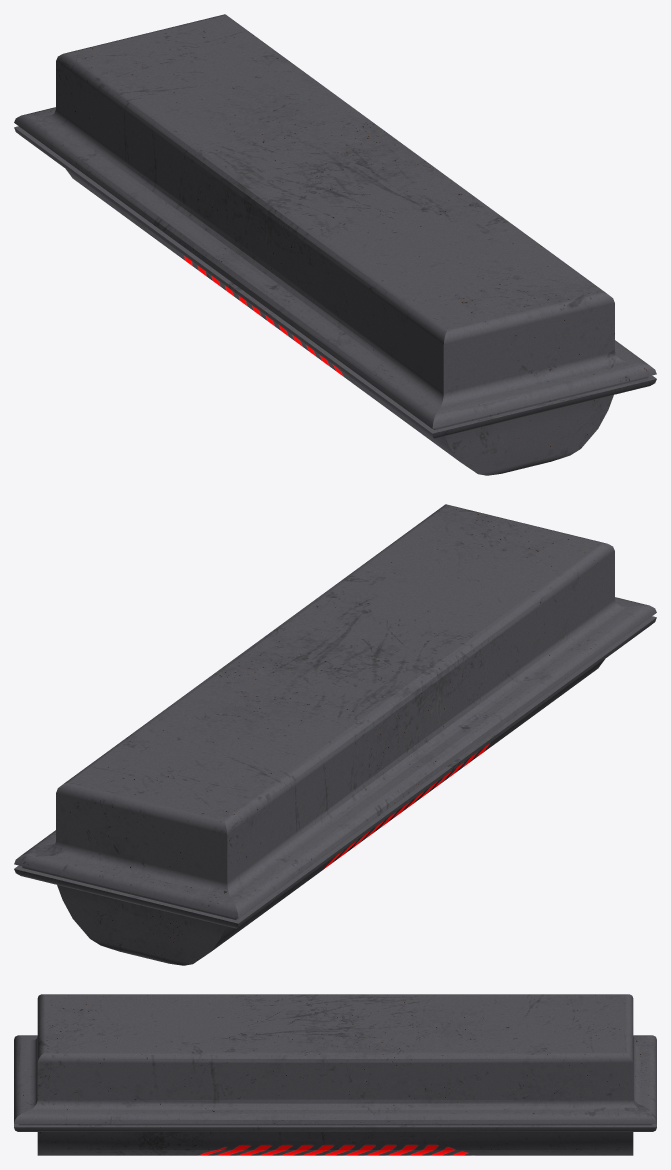
Rendered from marker.glb.
The picture shows the model from 3 angles, top to bottom: view 1: azimuth 30°, elevation 25°; view 2: azimuth 150°, elevation 25°; view 3: azimuth 270°, elevation 25°; orthographic projection. The views are drawn at different scales.
Parts seen in each view (by area): view 1: Light_Fixture, Light_Cover; view 2: Light_Fixture, Light_Cover; view 3: Light_Fixture, Light_Cover.
Part boxes in pixels (box(x1,y1,x2,y2)): Light_Fixture: box(14, 14, 656, 429); Light_Cover: box(14, 126, 656, 475); Light_Fixture: box(14, 504, 656, 919); Light_Cover: box(14, 616, 656, 965); Light_Fixture: box(14, 994, 656, 1125); Light_Cover: box(14, 1124, 656, 1155).
Size of the model in its own units: 30.12 by 20 by 97.29.
Materials: 2 (2 with a texture image).
